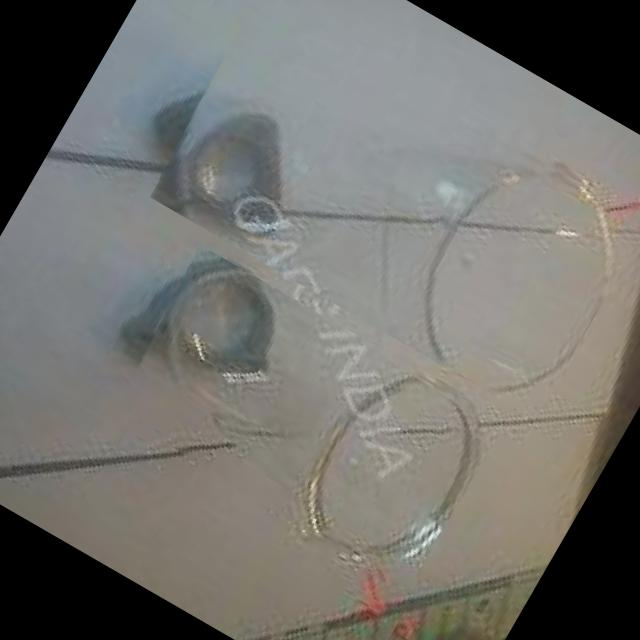Glass: (142, 0, 640, 419), (97, 244, 504, 596)
